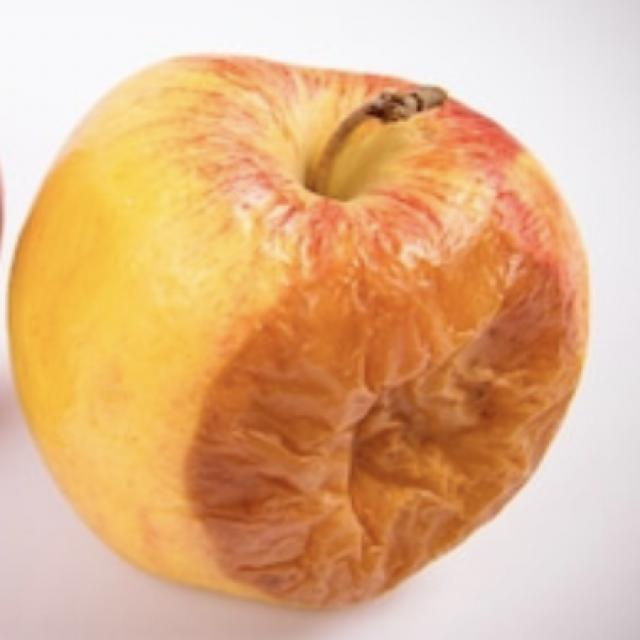Rotten: (10, 50, 592, 610)
